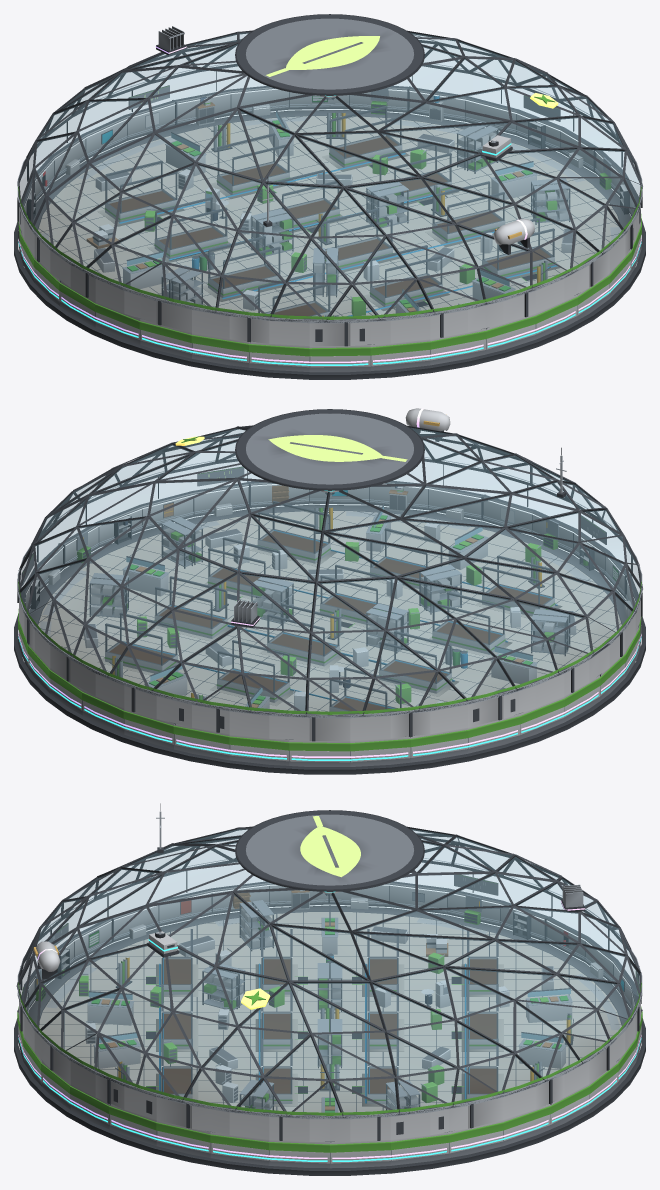
Rendered from greenhouse_xl_far.glb.
The picture shows the model from 3 angles, top to bottom: view 1: azimuth 30°, elevation 25°; view 2: azimuth 150°, elevation 25°; view 3: azimuth 270°, elevation 25°; orthographic projection.
Parts seen in each view (by area): view 1: Roof, Base, Interior, L2, L4, L3; view 2: Roof, Base, Interior, L2, L4, L3; view 3: Roof, Base, Interior, L2, L4, L3.
Boxes of the visible parts, x1,y1,x2,y2 form: Roof: [17, 14, 642, 346]; Base: [14, 85, 645, 379]; Interior: [40, 106, 620, 316]; L2: [17, 62, 642, 323]; L4: [18, 26, 641, 362]; L3: [18, 95, 641, 365]; Roof: [17, 409, 642, 741]; Base: [14, 481, 645, 774]; Interior: [40, 501, 591, 711]; L2: [17, 447, 642, 718]; L4: [18, 408, 641, 757]; L3: [18, 490, 641, 760]; Roof: [16, 810, 641, 1141]; Base: [14, 881, 645, 1175]; Interior: [46, 900, 619, 1112]; L2: [17, 803, 642, 1119]; L4: [18, 884, 641, 1158]; L3: [18, 891, 641, 1161].
Bounding box in the file's own units: 28.54 × 9.58 × 28.54.
